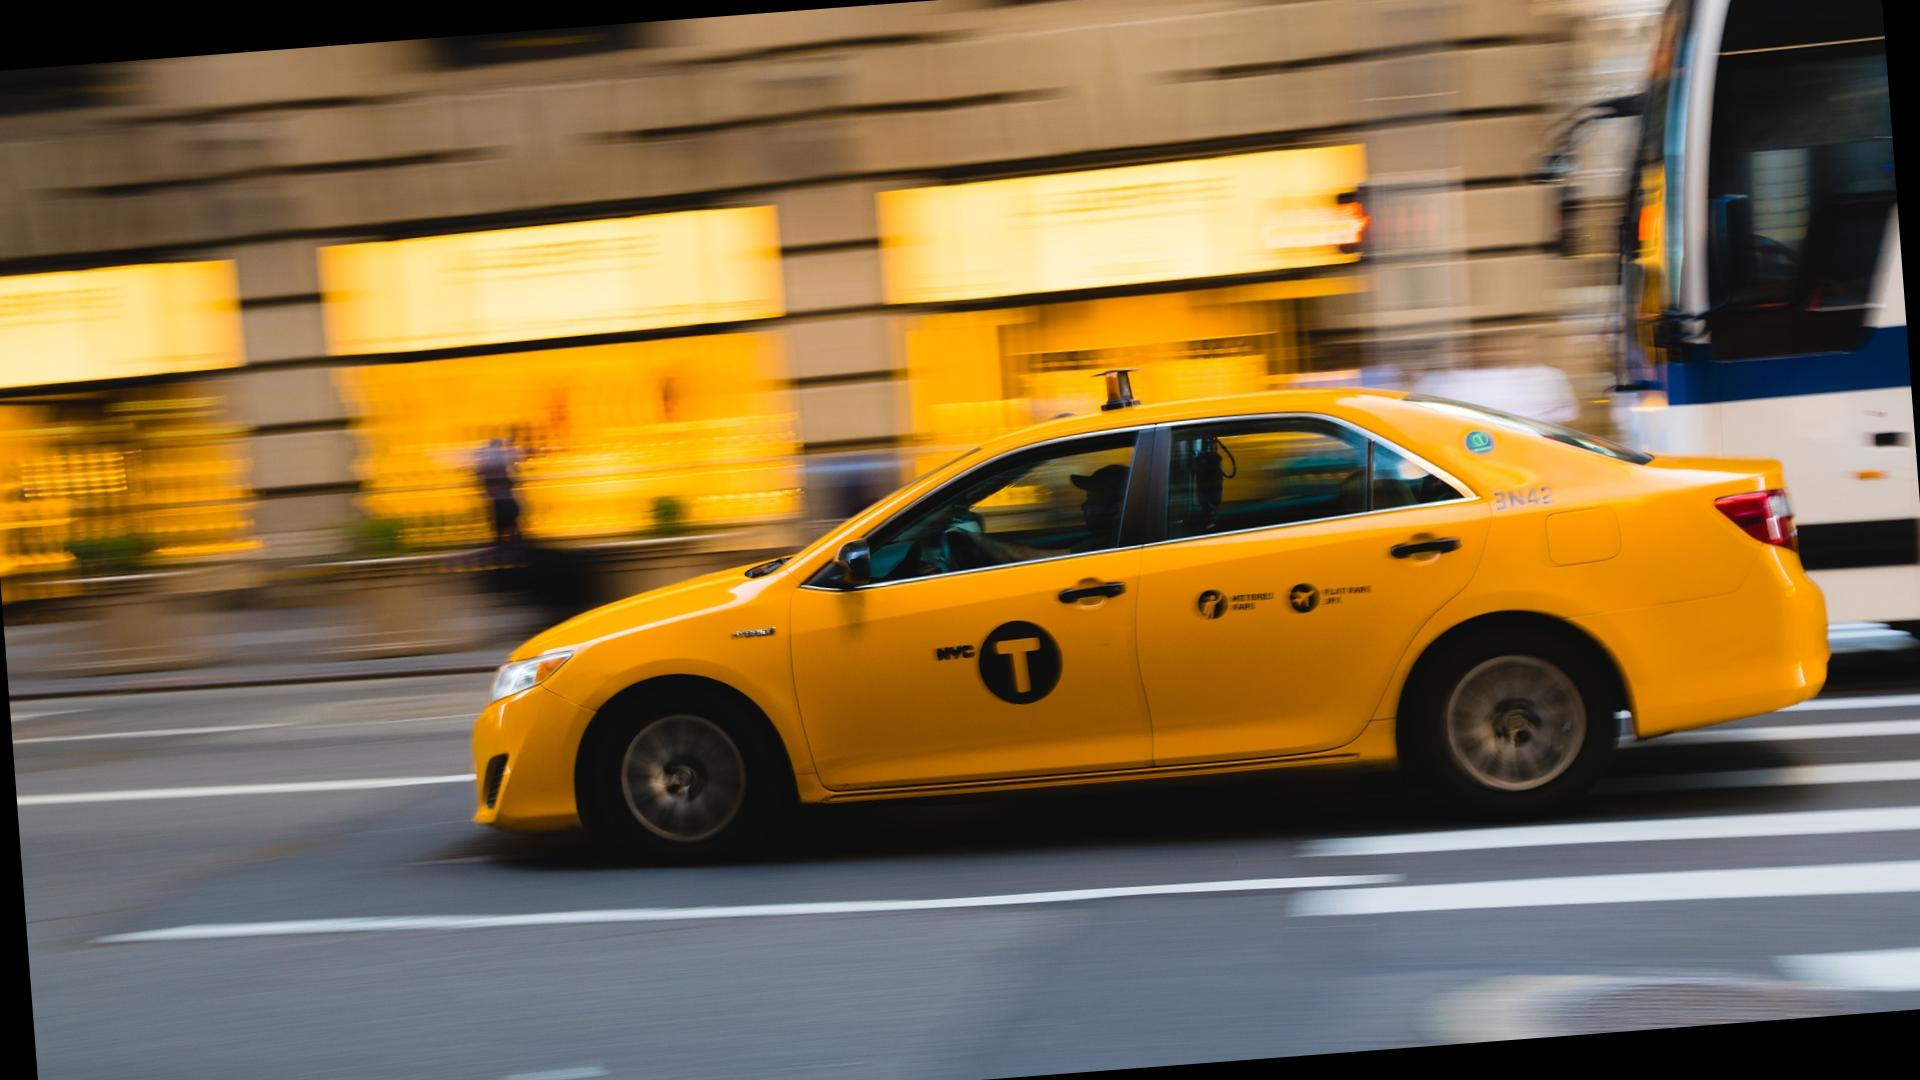taxi: (435, 414, 1844, 851)
